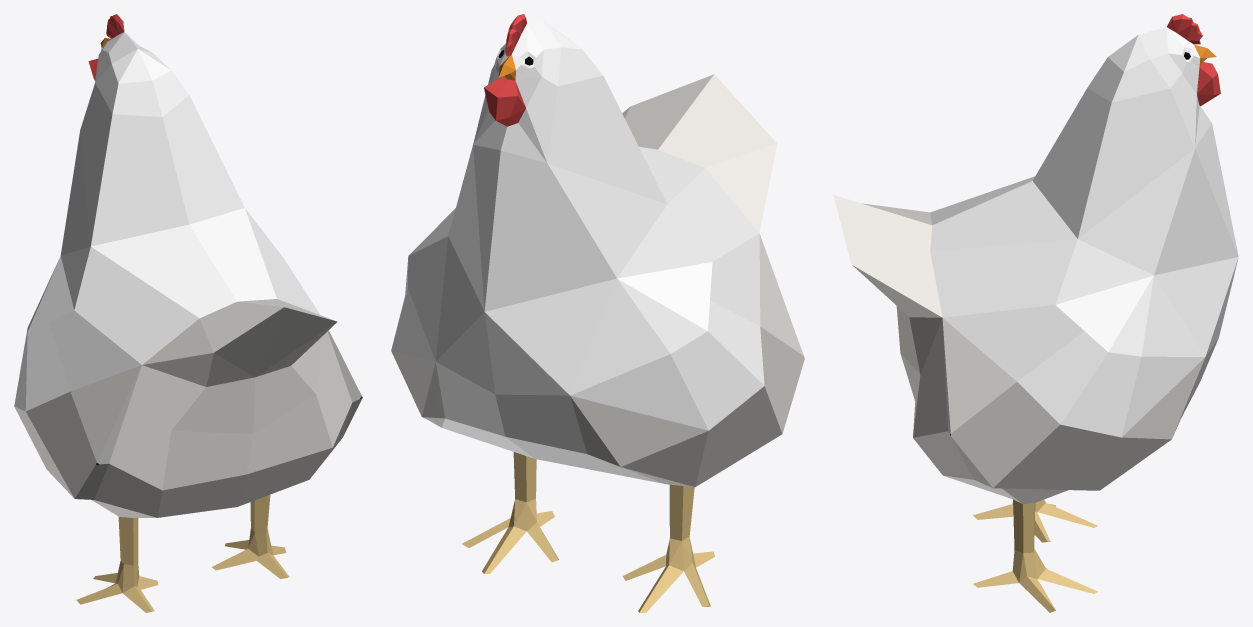
The model's file is chicken.fbx.
The picture shows the model from 3 angles, left to right: view 1: azimuth 30°, elevation 25°; view 2: azimuth 150°, elevation 25°; view 3: azimuth 270°, elevation 25°; orthographic projection. The views are drawn at different scales.
Parts seen in each view (by area): view 1: node_chicken_-4772; view 2: node_chicken_-4772; view 3: node_chicken_-4772.
Part boxes in pixels (x1=…): node_chicken_-4772: x1=14, y1=14, x2=362, y2=612; node_chicken_-4772: x1=391, y1=14, x2=804, y2=612; node_chicken_-4772: x1=833, y1=14, x2=1238, y2=612.
Bounding box in the file's own units: 1081 × 1776 × 1195.
